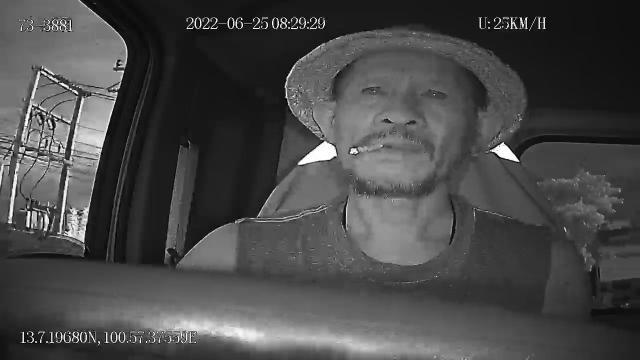SafeDriving: (357, 74, 392, 103), (416, 81, 454, 106)
Smoking: (349, 142, 383, 156)
